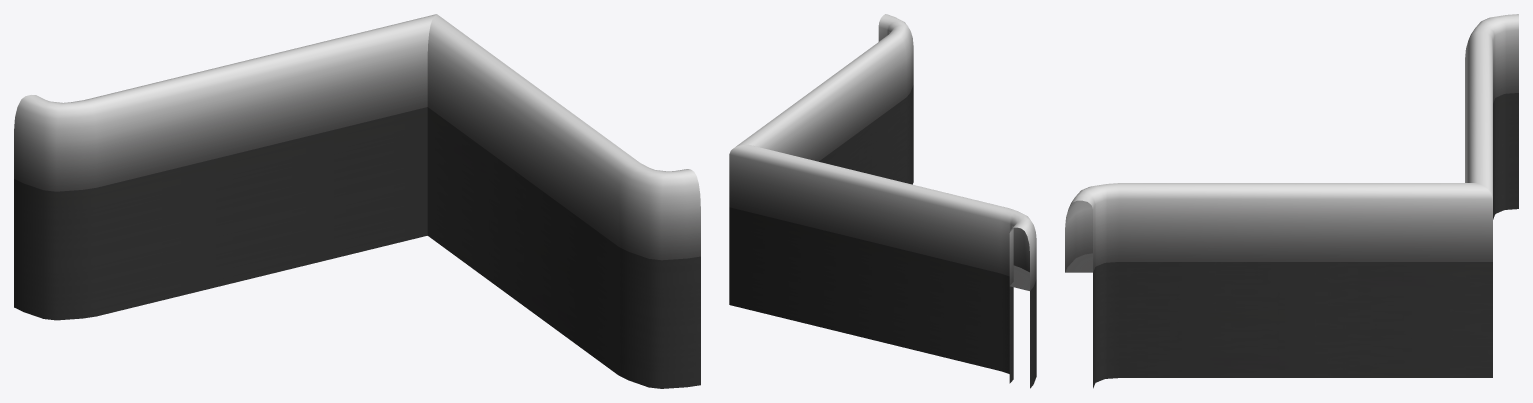
3 renders of one model, left to right at view 1: azimuth 30°, elevation 25°; view 2: azimuth 150°, elevation 25°; view 3: azimuth 270°, elevation 25°, orthographic. The views are drawn at different scales.
Parts seen in each view (by area): view 1: PLANE, PieceType5; view 2: PLANE, PieceType5; view 3: PLANE, PieceType5.
Part boxes in pixels (box(x1,y1,x2,y2)): PLANE: box(14, 107, 700, 388); PieceType5: box(14, 14, 700, 260); PLANE: box(729, 85, 1036, 388); PieceType5: box(729, 14, 1036, 290); PLANE: box(1093, 93, 1518, 388); PieceType5: box(1065, 14, 1518, 272).
Bounding box in the file's own units: 114 × 51.97 × 114.
